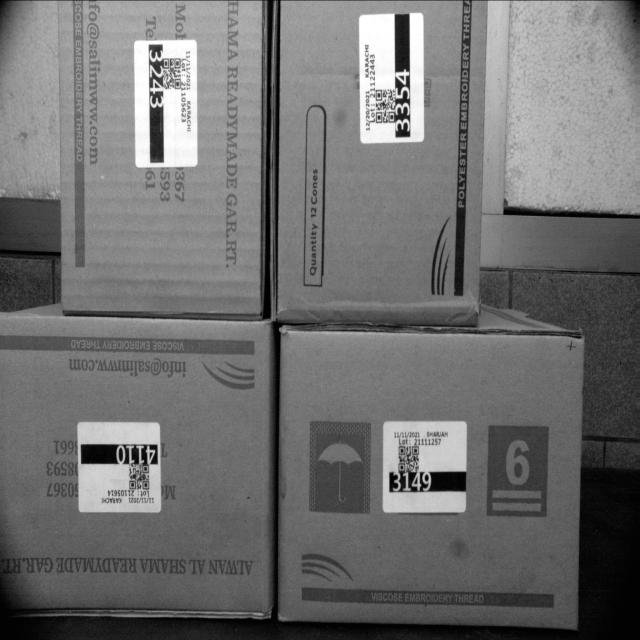cardboxes: (278, 328, 583, 623), (1, 318, 268, 624), (54, 0, 267, 318), (280, 0, 478, 330)
